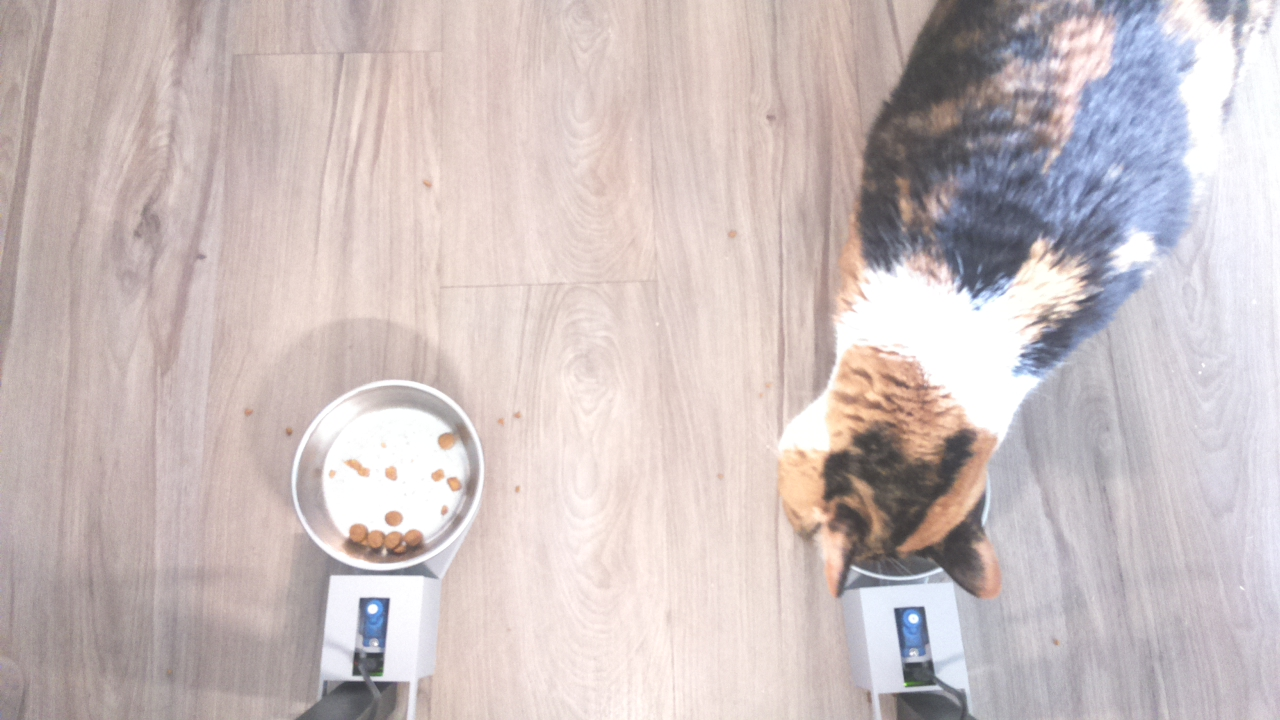bella_eating: (745, 287, 1043, 607)
open_bowl: (290, 377, 485, 577)
